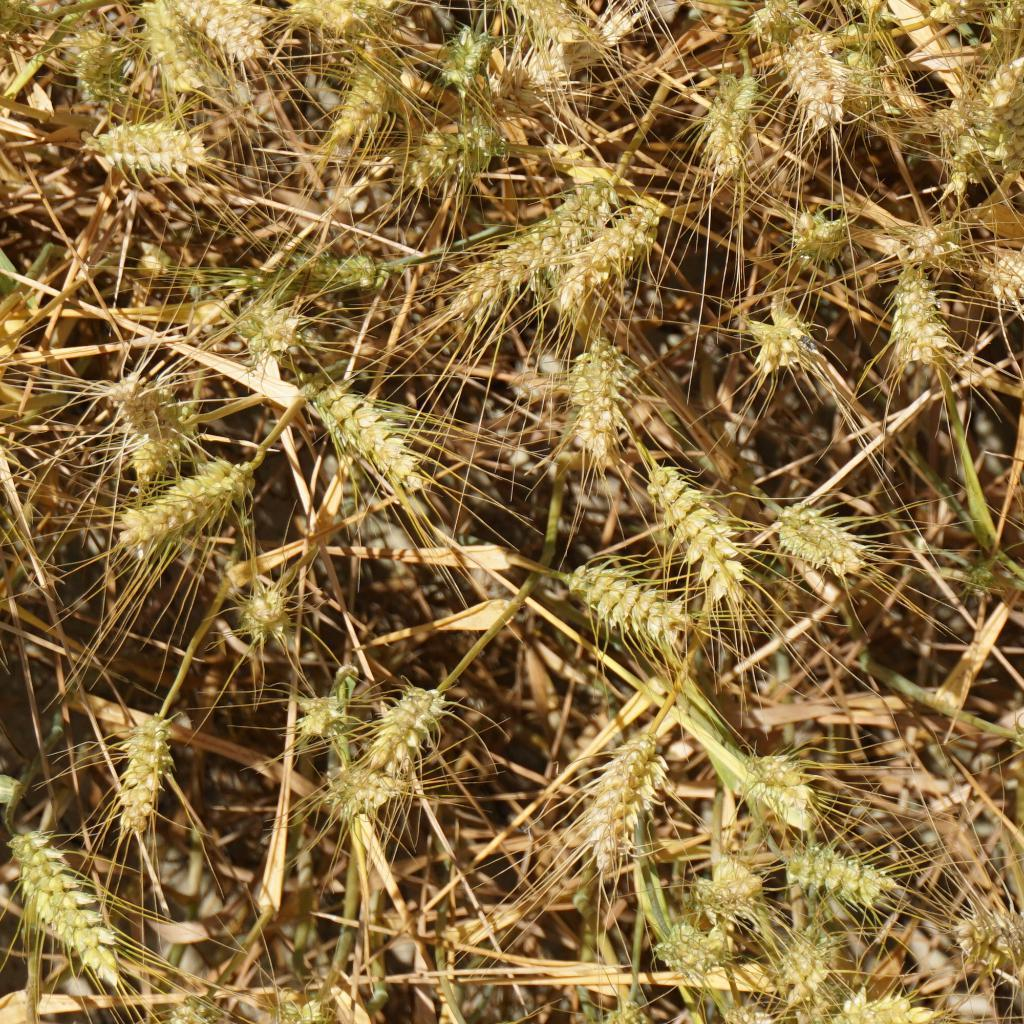0-0: (7, 818, 119, 958), (543, 555, 691, 655), (467, 180, 580, 302), (876, 253, 970, 381), (643, 467, 741, 586), (581, 732, 665, 866), (118, 468, 258, 542), (683, 75, 768, 186), (553, 214, 662, 300), (317, 382, 407, 486), (325, 35, 396, 147), (566, 335, 629, 461), (781, 498, 879, 576), (104, 712, 173, 820), (730, 306, 829, 381), (400, 122, 510, 184), (496, 34, 592, 105), (89, 104, 188, 172), (779, 845, 904, 897), (363, 686, 445, 764), (944, 86, 1005, 186), (948, 901, 1024, 970), (240, 566, 307, 643), (785, 31, 842, 118), (119, 415, 200, 476), (649, 920, 736, 976), (95, 371, 175, 431), (146, 1, 197, 93), (183, 0, 261, 59), (328, 759, 409, 815), (691, 869, 773, 924), (822, 982, 929, 1024), (783, 203, 854, 266), (741, 735, 812, 797), (834, 39, 886, 120), (486, 0, 593, 38), (775, 926, 827, 1004), (284, 238, 372, 284), (237, 308, 318, 357), (73, 31, 119, 115), (435, 24, 492, 90), (288, 683, 352, 737), (296, 0, 386, 34), (885, 221, 956, 263), (999, 75, 1024, 173), (988, 245, 1024, 304), (962, 557, 1006, 599), (747, 0, 803, 31), (920, 0, 1005, 16), (1000, 0, 1024, 55), (820, 0, 888, 17), (0, 0, 28, 37)
